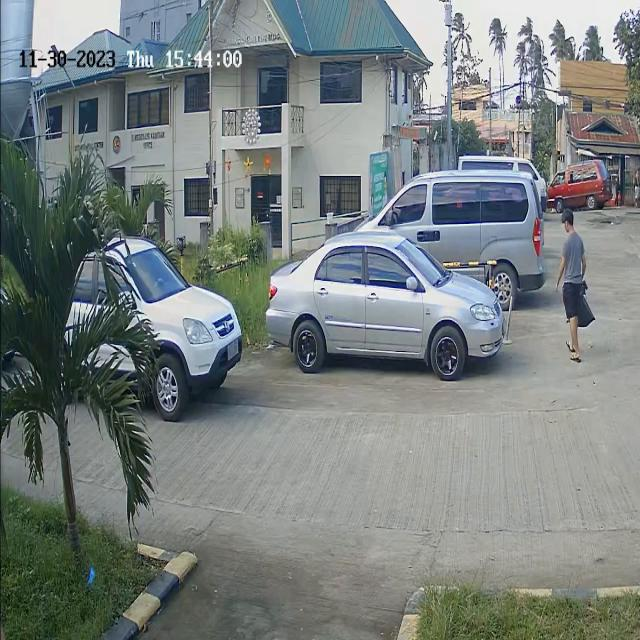garbage: (559, 280, 594, 332)
person: (556, 210, 596, 370)
